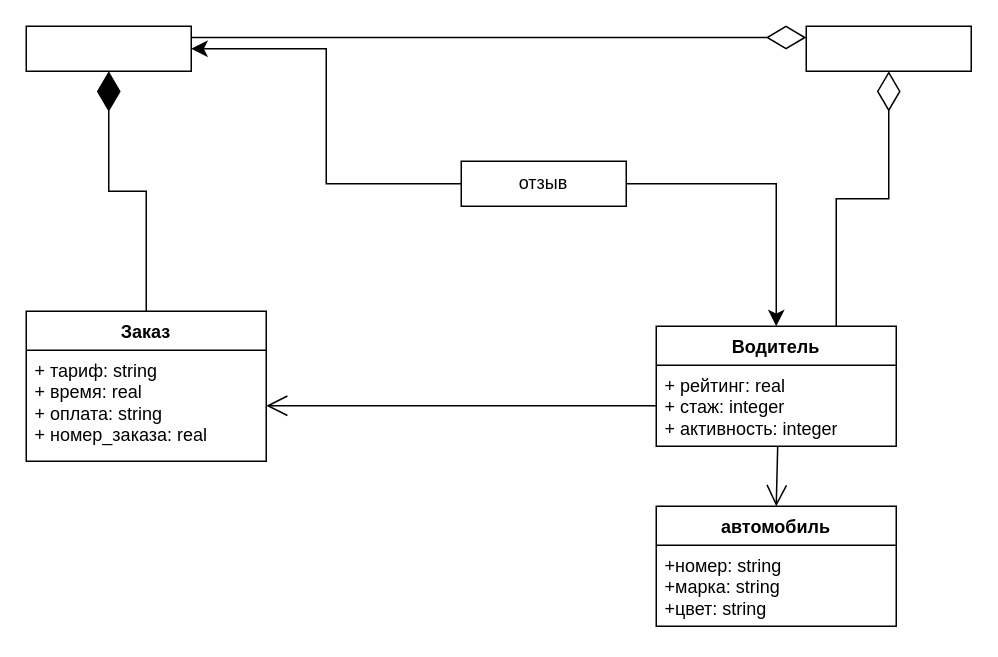
Some shapes in this 998 by 657 pixel diagram are drawn without their labels. Here are the shapes that lost their labels. From the top down, the centre of each, then its label:
At pixel 108 48: "Клиент".
At pixel 888 48: "Каталог тарифов".
